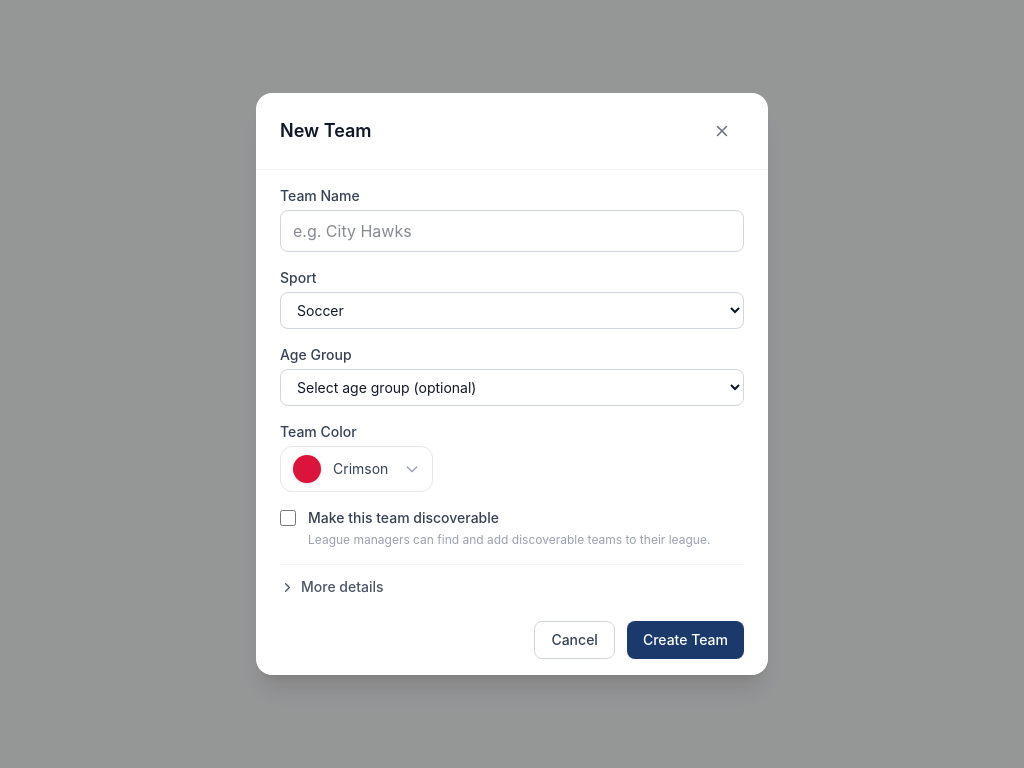
Test: TeamForm — CF error shows error banner › shows error banner when createTeamAndBecomeCoach rejects
The image size is (1024, 768).
Type "New Team" into the field labelled "Team Name" at (512, 231), box [280,210,744,252]
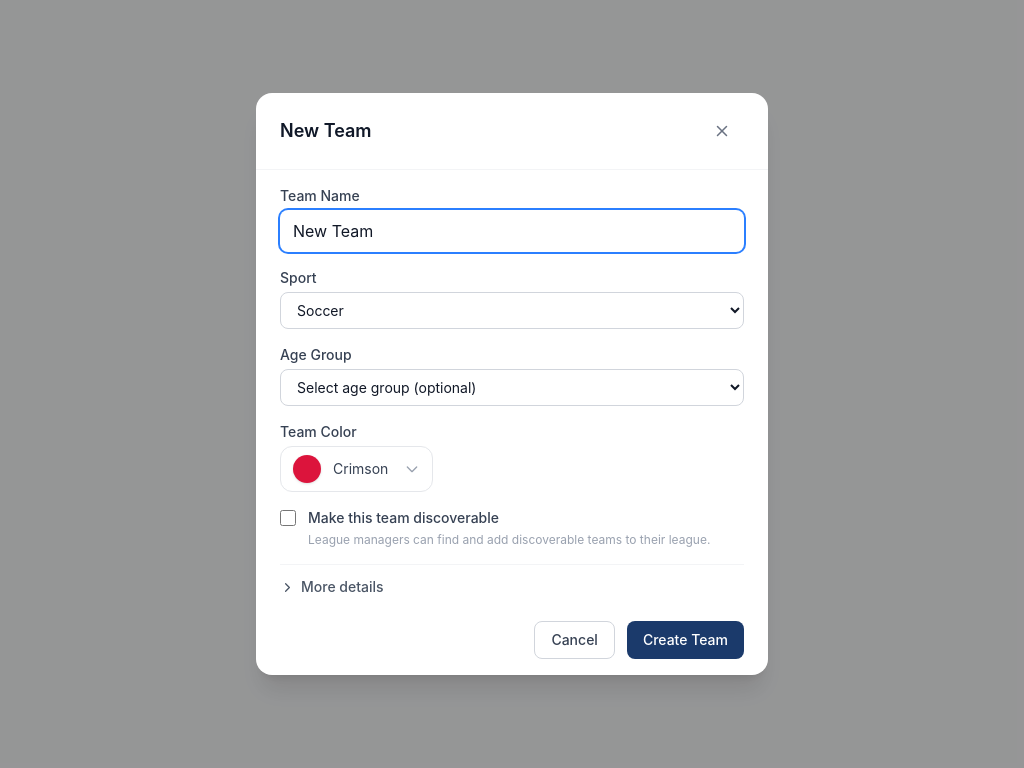
Click the button "Create Team" at (685, 640), box [627,621,744,659]
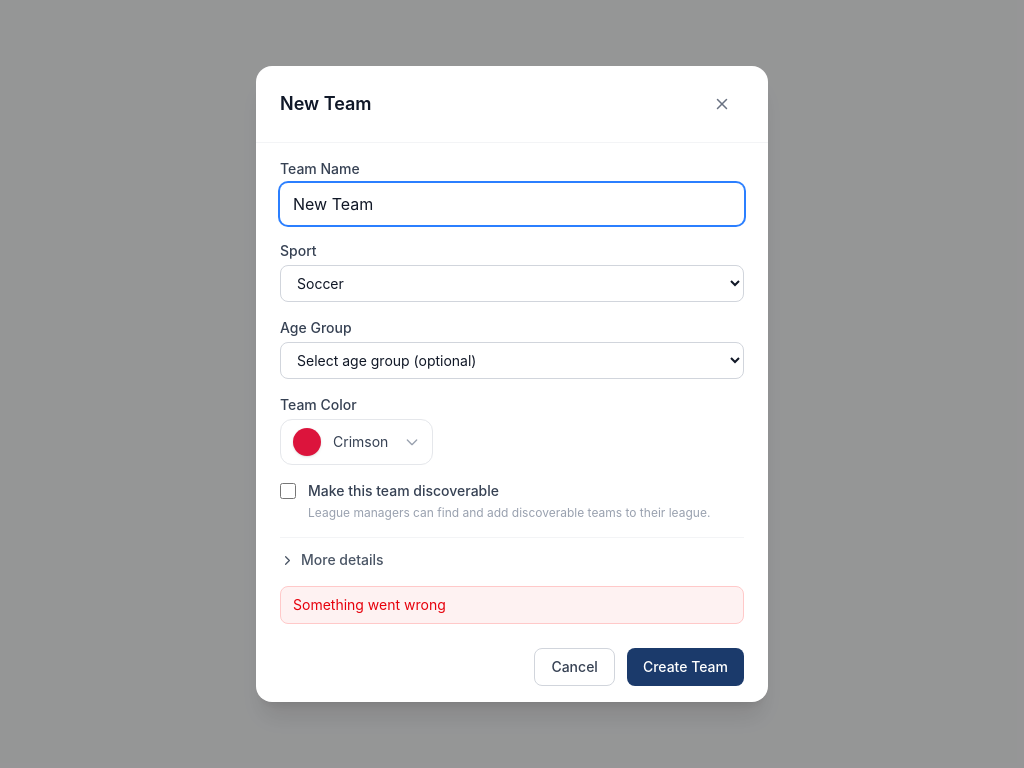
expect the text "Something went wrong" is shown: met, box [280,586,744,624]
